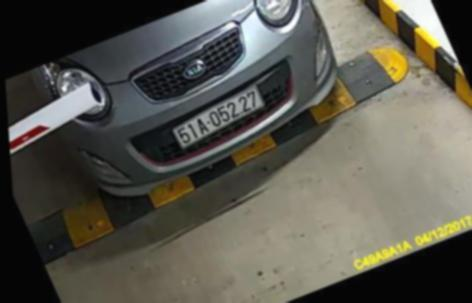License_Plate: (163, 84, 268, 154)
